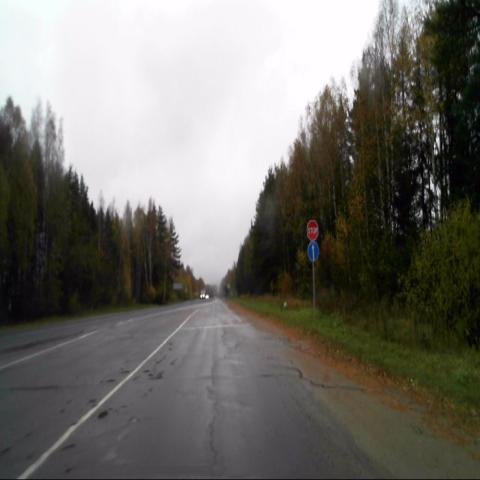2_5: (306, 220, 318, 243)
